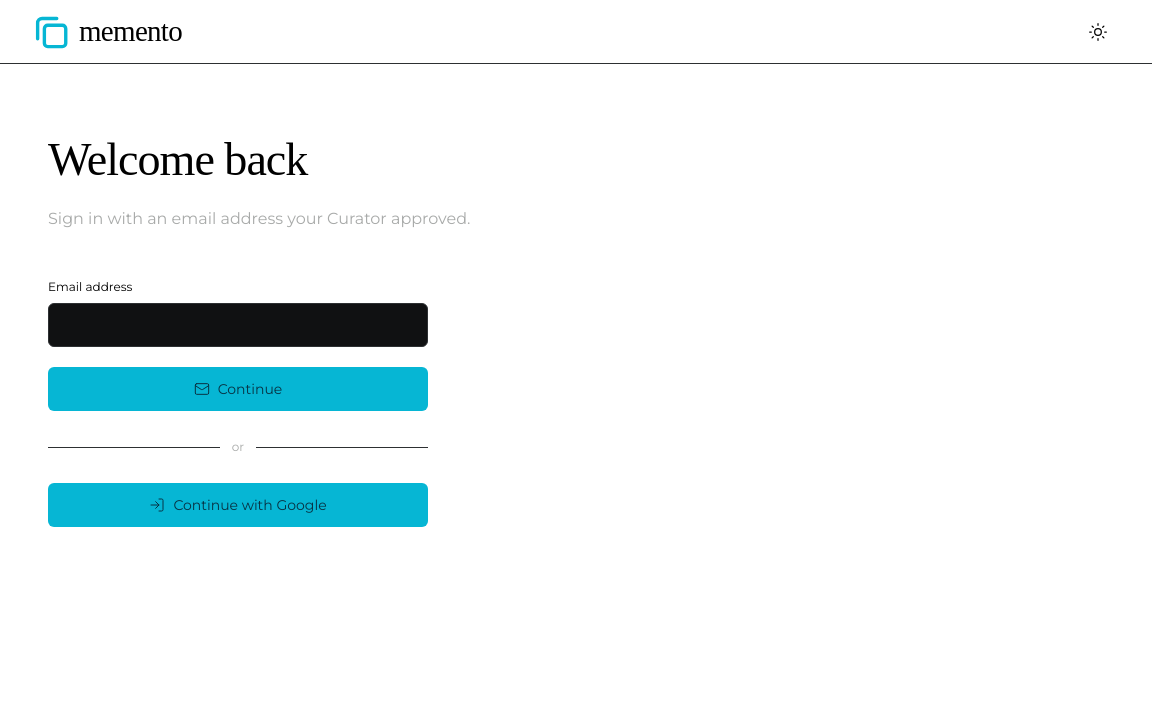
Test case: signs in with an emailed code and keeps the Mobile App's return link
The image size is (1152, 720).
Check: the link "Continue with Google" is shown, box [48,483,428,527]
Type "Alex@example.test" into the field labelled "Email address". click: (238, 325)
box: [48,303,428,347]
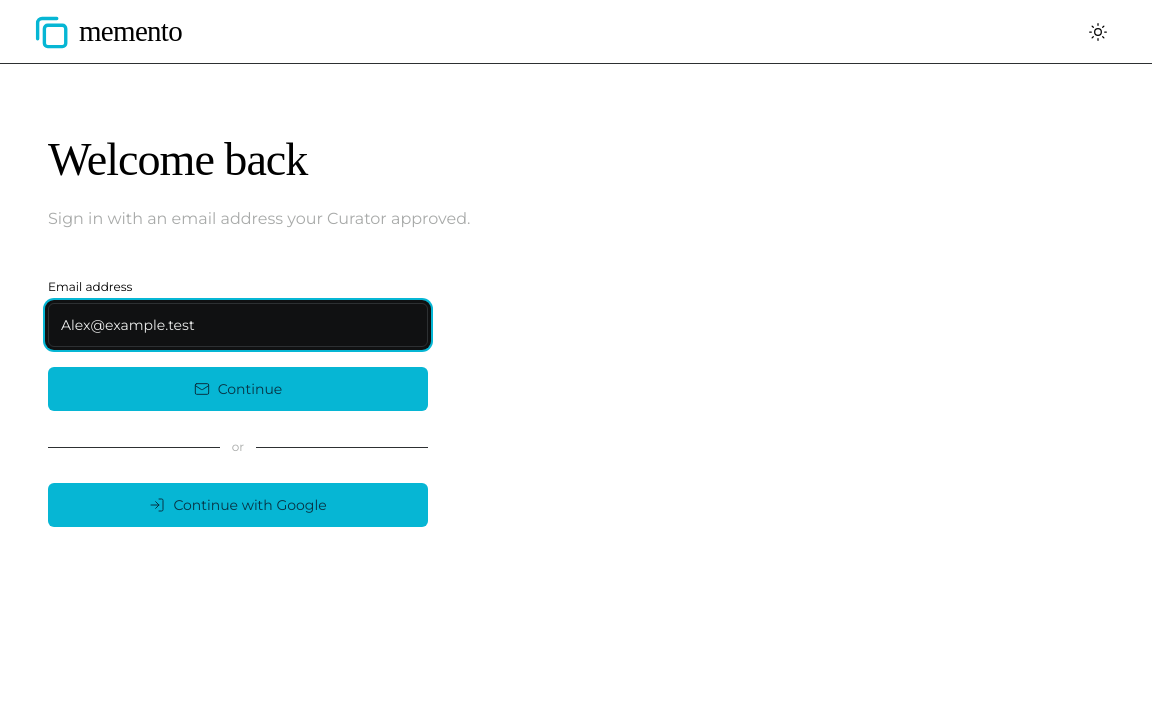
Click the button "Continue". click: (238, 389)
box: [48,367,428,411]
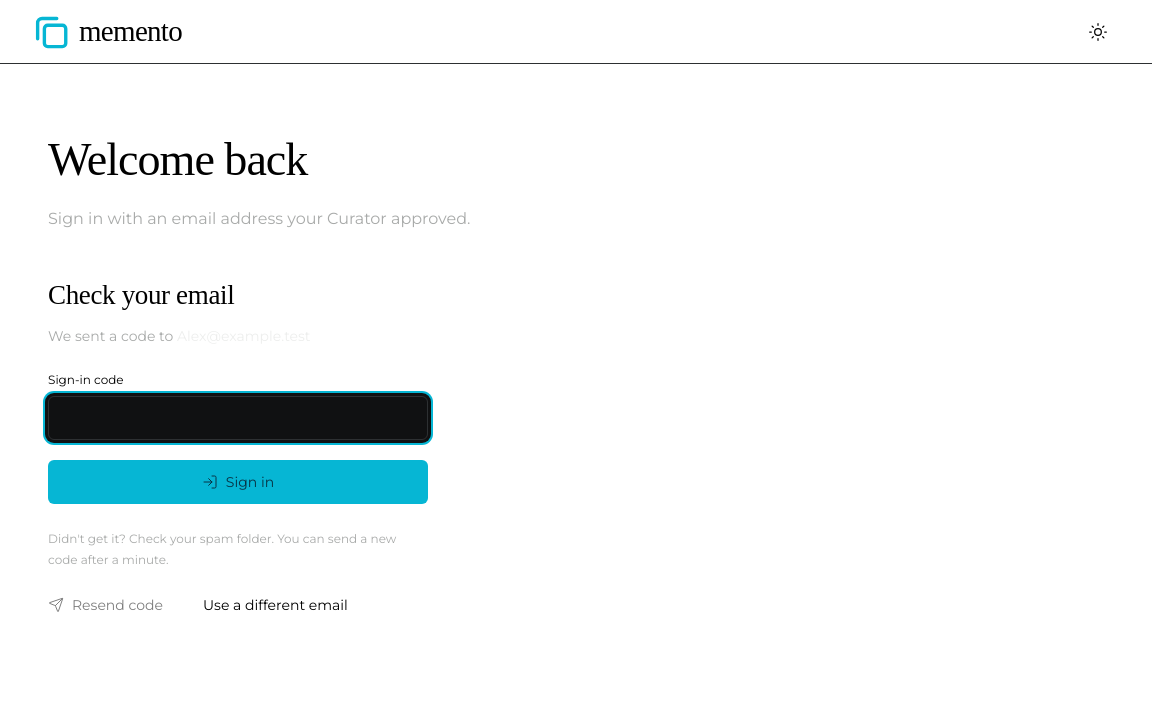
Check: the text "We sent a code to Alex@example.test" is shown, box [48,327,310,345]
Check: the link "Continue with Google" is gone
Check: the button "Resend code" is disabled, box [32,583,179,627]
A pasted code with a space in it is enough to sign in.
Type keys "123 456"
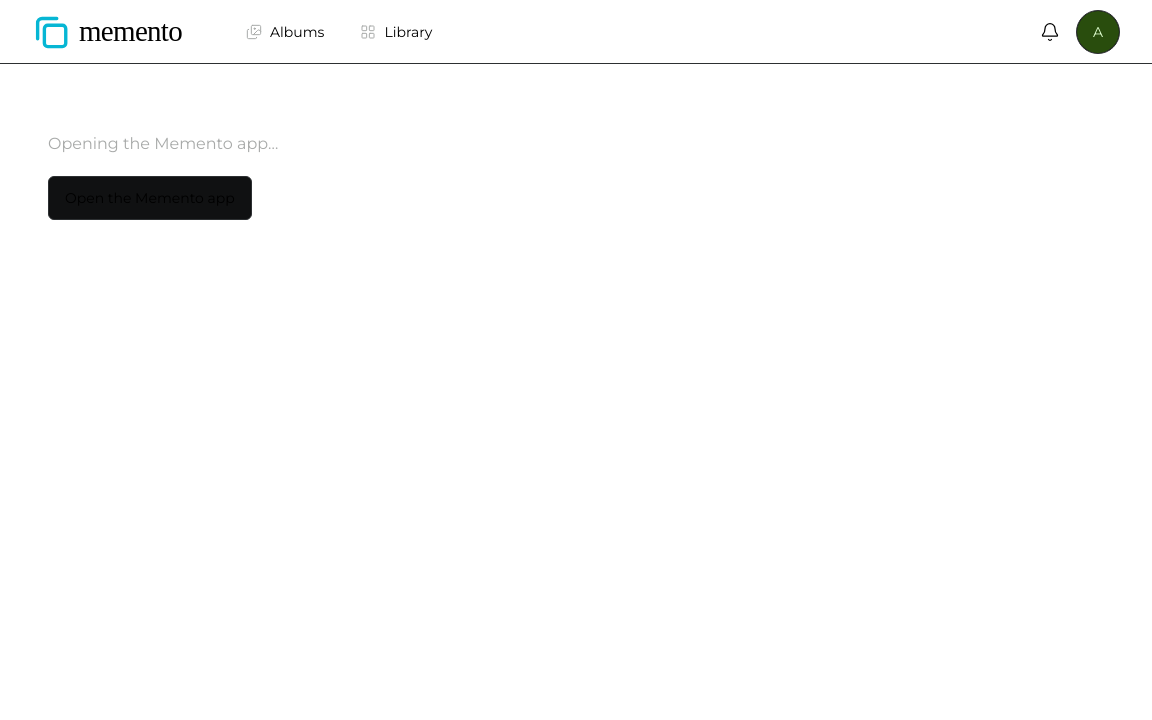
Check: the message reads "Opening the Memento app…", box [48,134,278,153]
